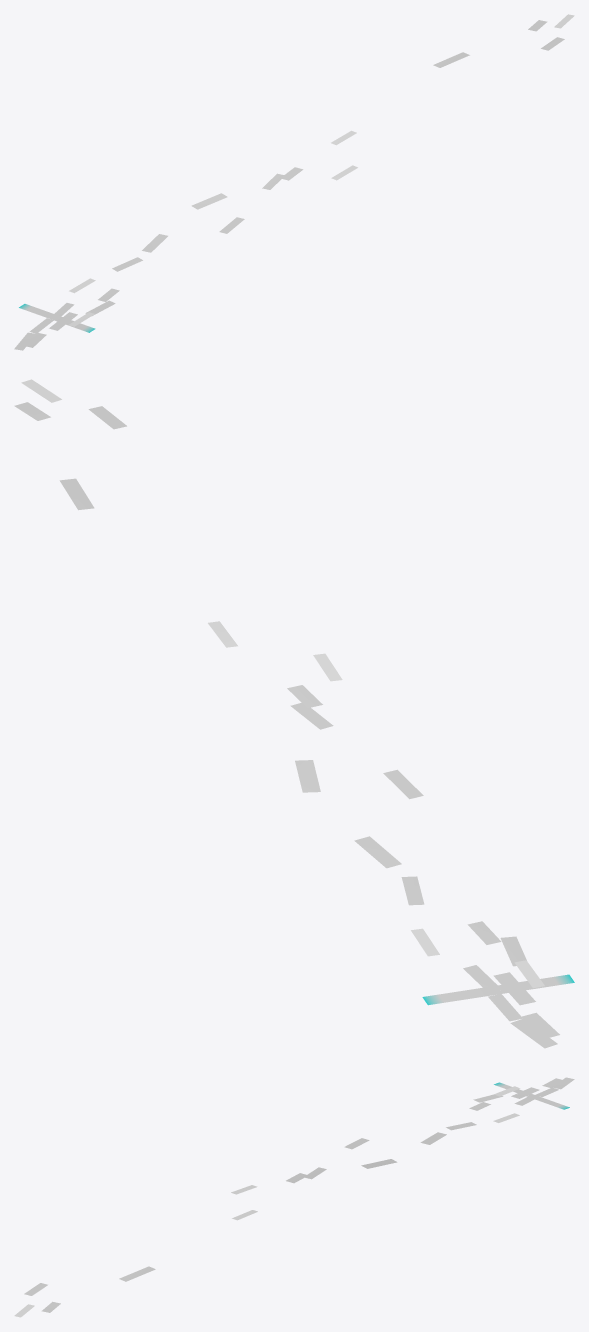
File: cell_152_107.fbx
3 views of the same model, one above another, from view 1: azimuth 90°, elevation 25°; view 2: azimuth 150°, elevation 25°; view 3: azimuth 270°, elevation 25° (orthographic). The views are drawn at different scales.
Parts seen in each view (by area): view 1: SpaceCenter_Long3_GenerateRoad_Asphalt_PCGMesh_Macadam_Deca. (×2), SpaceCenter_Long3_GenerateRoad_JTDecal_Asphalt_BM_Line_Mesh_; view 2: SpaceCenter_Long3_GenerateRoad_Asphalt_PCGMesh_Macadam_Deca. (×2), SpaceCenter_Long3_GenerateRoad_JTDecal_Asphalt_BM_Line_Mesh_; view 3: SpaceCenter_Long3_GenerateRoad_Asphalt_PCGMesh_Macadam_Deca. (×2), SpaceCenter_Long3_GenerateRoad_JTDecal_Asphalt_BM_Line_Mesh_.
Boxes of the visible parts, x1,y1,x2,y2 form: SpaceCenter_Long3_GenerateRoad_Asphalt_PCGMesh_Macadam_Deca. (×2): (14,20,564,350); SpaceCenter_Long3_GenerateRoad_JTDecal_Asphalt_BM_Line_Mesh_: (69,14,574,316); SpaceCenter_Long3_GenerateRoad_Asphalt_PCGMesh_Macadam_Deca. (×2): (14,402,559,1048); SpaceCenter_Long3_GenerateRoad_JTDecal_Asphalt_BM_Line_Mesh_: (21,379,529,971); SpaceCenter_Long3_GenerateRoad_Asphalt_PCGMesh_Macadam_Deca. (×2): (24,1077,574,1312); SpaceCenter_Long3_GenerateRoad_JTDecal_Asphalt_BM_Line_Mesh_: (14,1093,519,1317).
Bounding box in the file's own units: 69.25 × 5.43 × 56.96.
